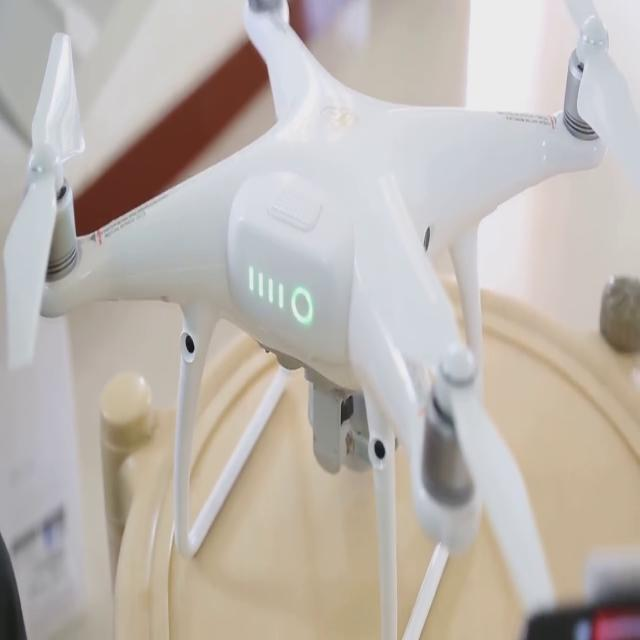drones: (0, 0, 635, 619)
